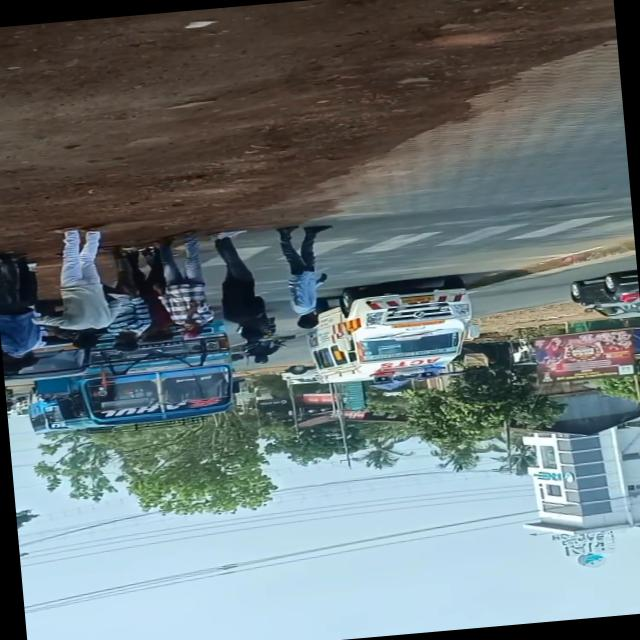ambulance: (291, 284, 496, 395)
